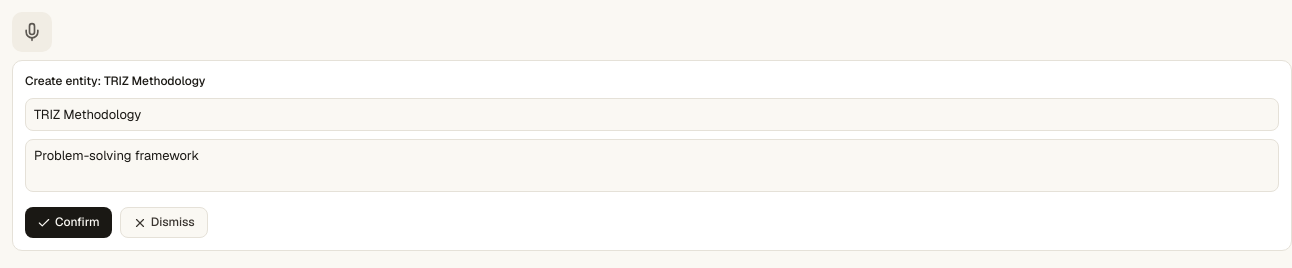
Test: VoiceCapture › resets state on Dismiss
The image size is (1292, 268).
Click the button "Dismiss" at (164, 223), box [120,207,208,238]
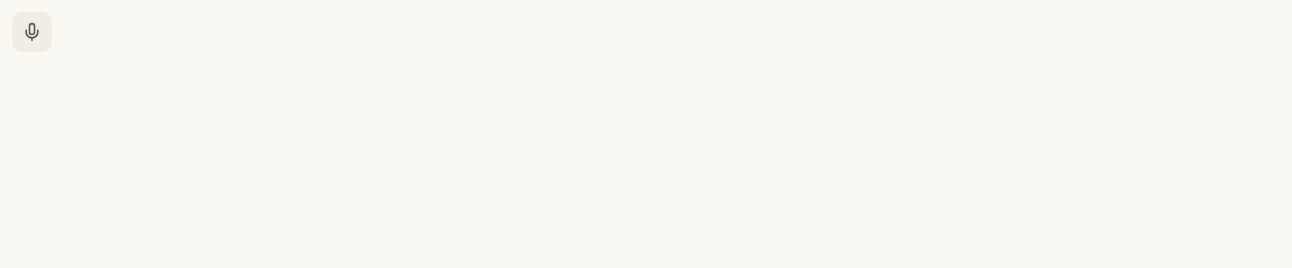
Result: the text "Create entity: TRIZ Methodology" is gone
